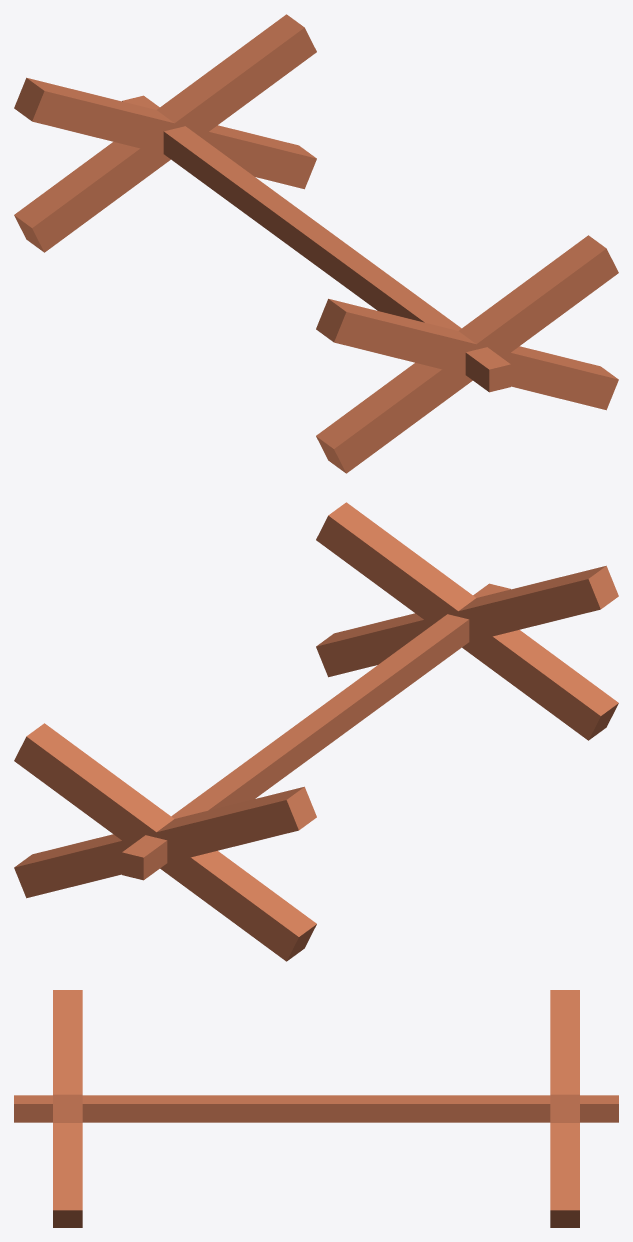
Rendered from bedroll-frame.obj.
3 views of the same model, one above another, from view 1: azimuth 30°, elevation 25°; view 2: azimuth 150°, elevation 25°; view 3: azimuth 270°, elevation 25° (orthographic). The views are drawn at different scales.
Size of the model in its own units: 0.2722 by 0.1477 by 0.6076.
